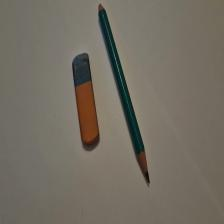eraser: (73, 54, 101, 147)
pencil: (99, 4, 151, 184)
